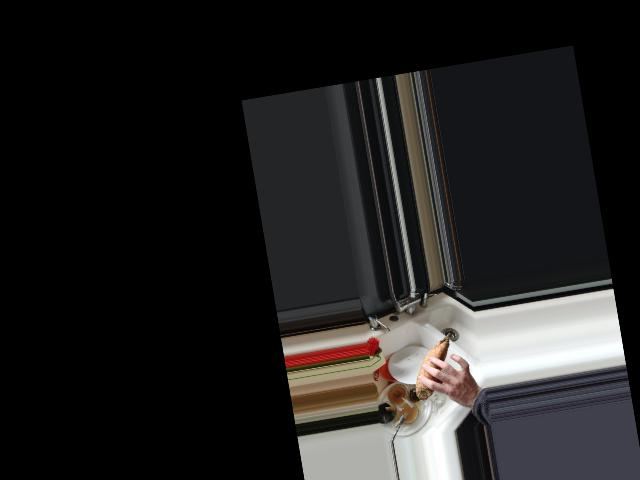sweet_potato: (406, 332, 460, 400)
